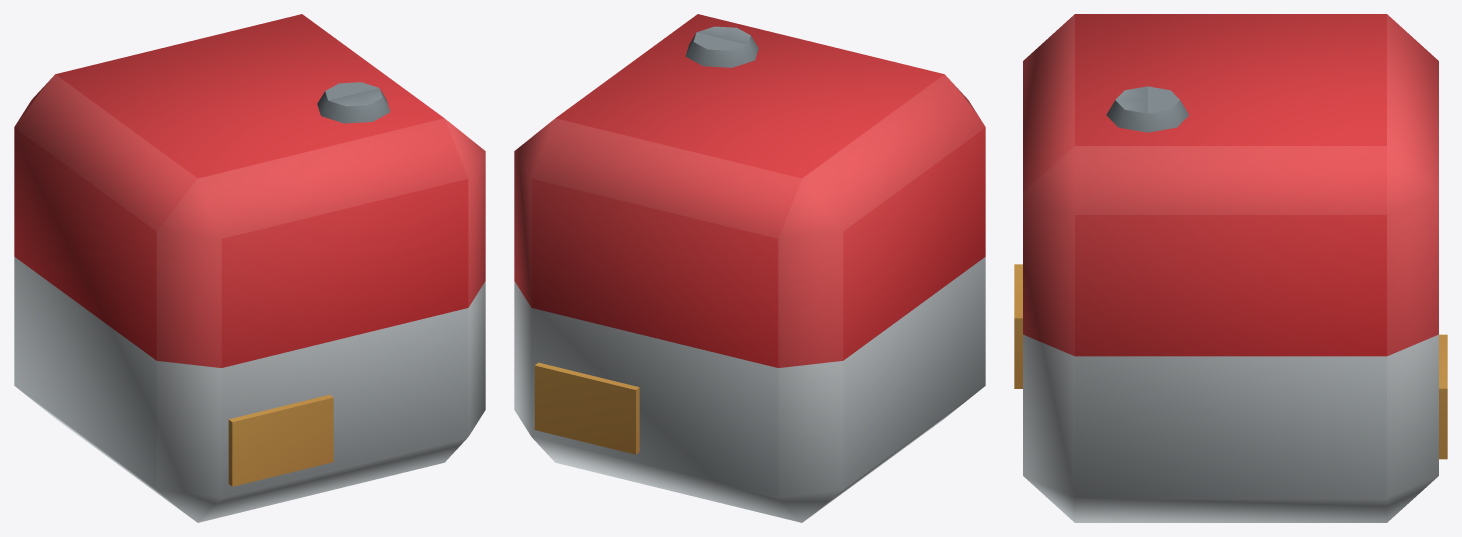
Rendered from kaykit_cargo_a_v01.glb.
The picture shows the model from 3 angles, left to right: view 1: azimuth 30°, elevation 25°; view 2: azimuth 150°, elevation 25°; view 3: azimuth 270°, elevation 25°; orthographic projection. The views are drawn at different scales.
Parts seen in each view (by area): view 1: cargo_A; view 2: cargo_A; view 3: cargo_A.
Part boxes in pixels (box(x1,y1,x2,y2)): cargo_A: box(14, 14, 485, 522); cargo_A: box(514, 14, 985, 522); cargo_A: box(1014, 14, 1447, 522).
Size of the model in its own units: 0.5 by 0.52 by 0.5205.
Materials: 1 (1 with a texture image).
